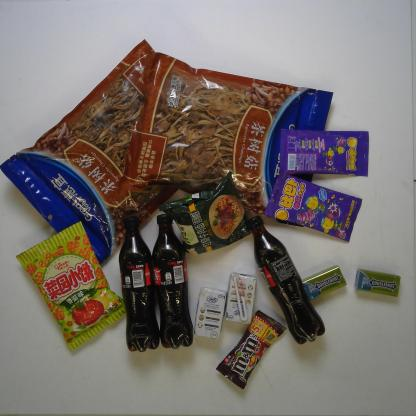Candy: (262, 168, 364, 243), (270, 120, 376, 180)
Chocolate: (214, 310, 286, 388)
Dried Food: (0, 39, 186, 269), (120, 48, 335, 216)
Drink: (247, 219, 333, 346), (116, 208, 163, 352), (150, 211, 198, 349)
Gum: (299, 262, 352, 303), (352, 266, 408, 299)
Instant Noodles: (158, 170, 256, 266)
Milk: (190, 286, 230, 343), (220, 271, 262, 325)
Puffed Food: (11, 217, 130, 357)
